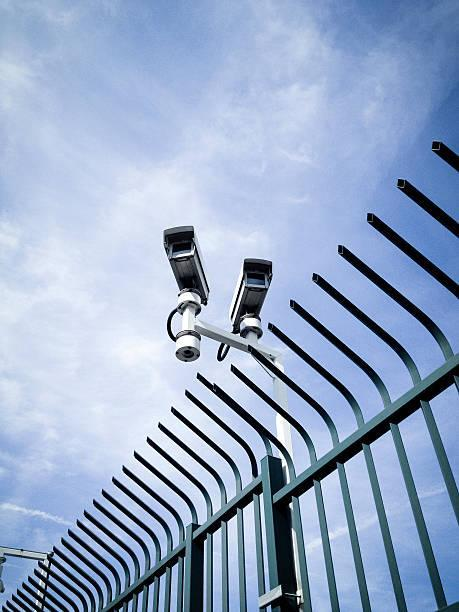camera: (215, 228, 292, 373), (145, 198, 217, 330)
